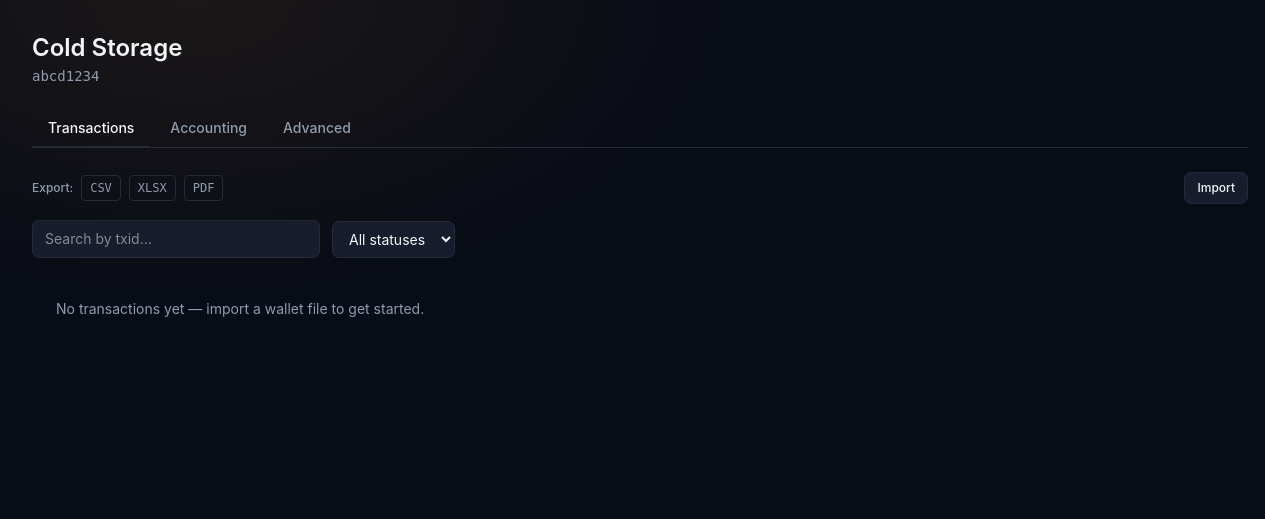
Scenario: WalletPage › surfaces a sync-history load failure on the Advanced tab
This screenshot has width=1265, height=519.
Click the tab "Advanced" at (317, 129), box [267, 110, 367, 148]
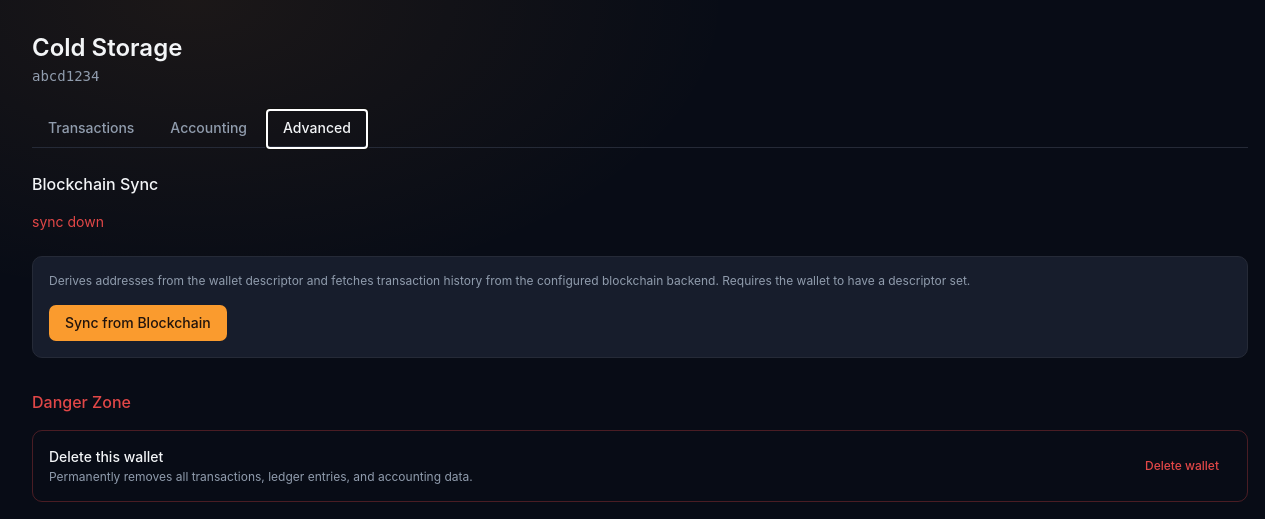
Check: the message reads "sync down", box [32, 213, 104, 230]
